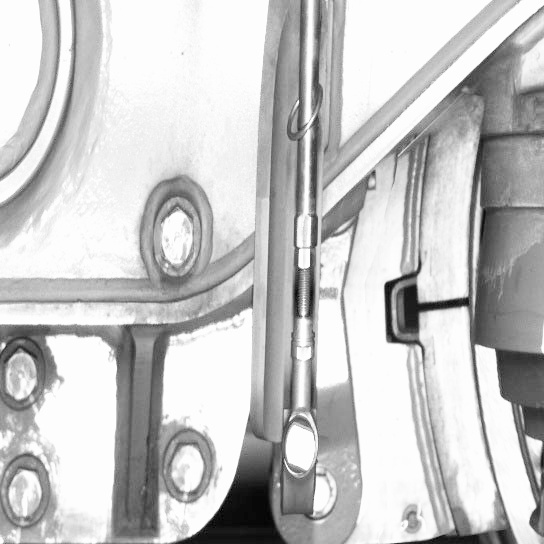ClosedKnifeSwitch: (404, 133, 522, 541)
